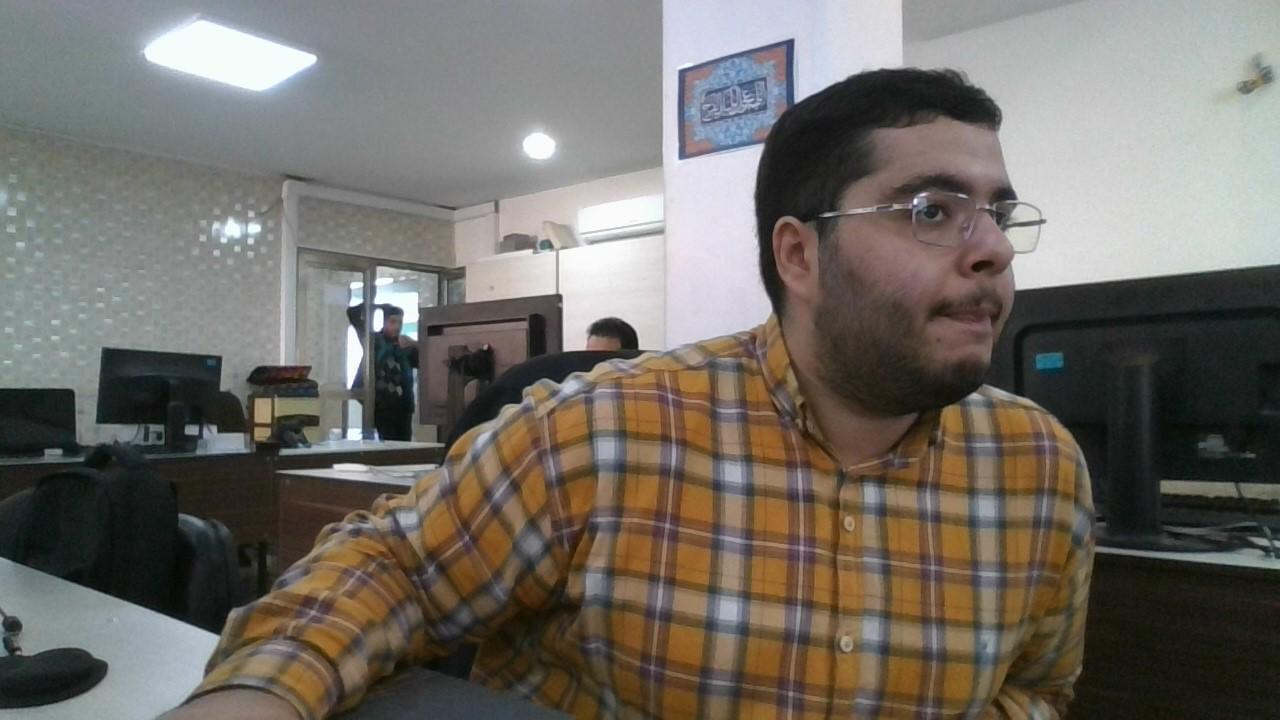NoMask: (793, 235, 1020, 408)
